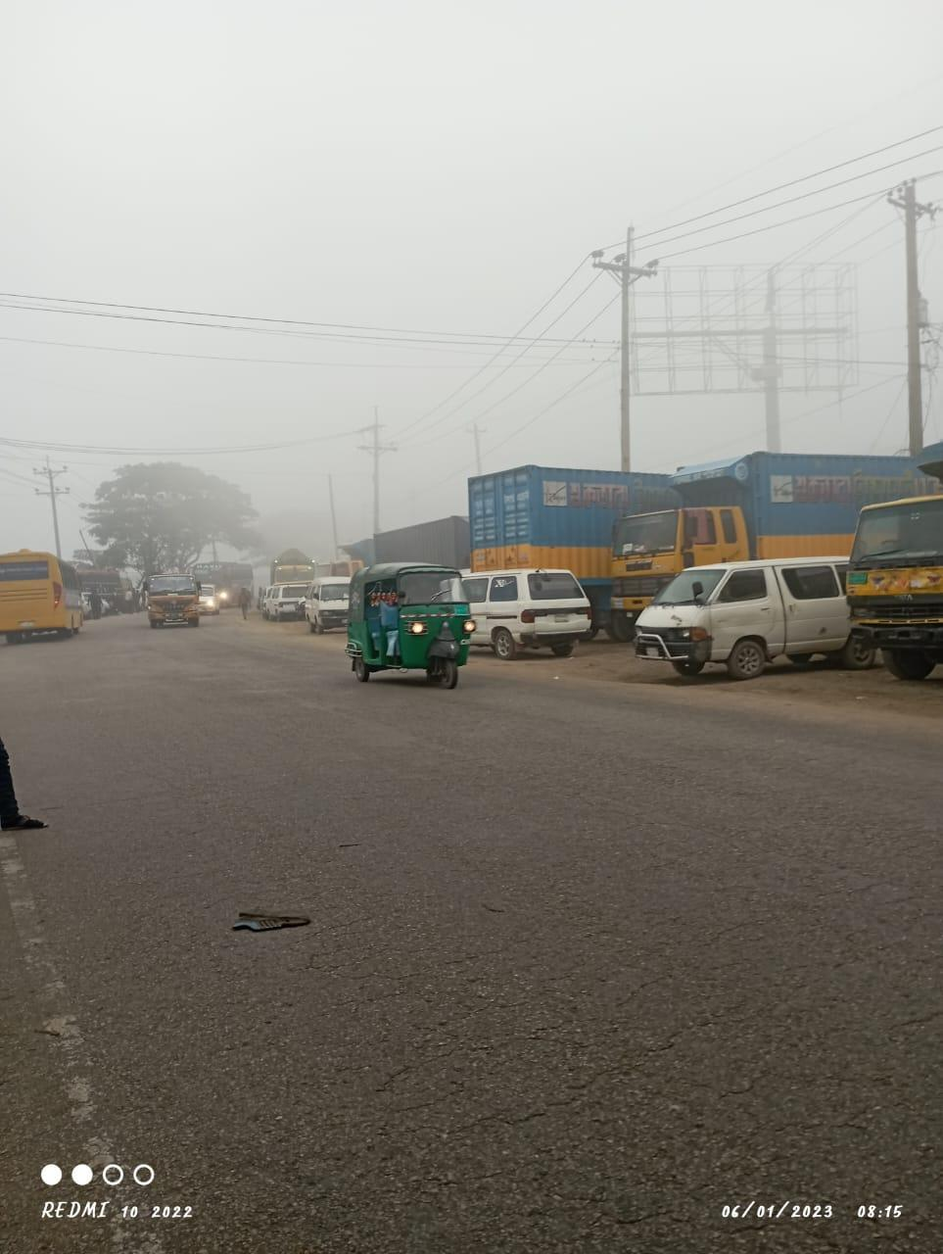Bus: (2, 537, 90, 647), (195, 557, 258, 609)
Car: (620, 548, 848, 681), (466, 559, 596, 669), (301, 570, 350, 636), (259, 580, 298, 622)
Truck: (605, 446, 852, 595), (835, 440, 943, 689), (456, 458, 617, 583), (142, 559, 204, 635)
